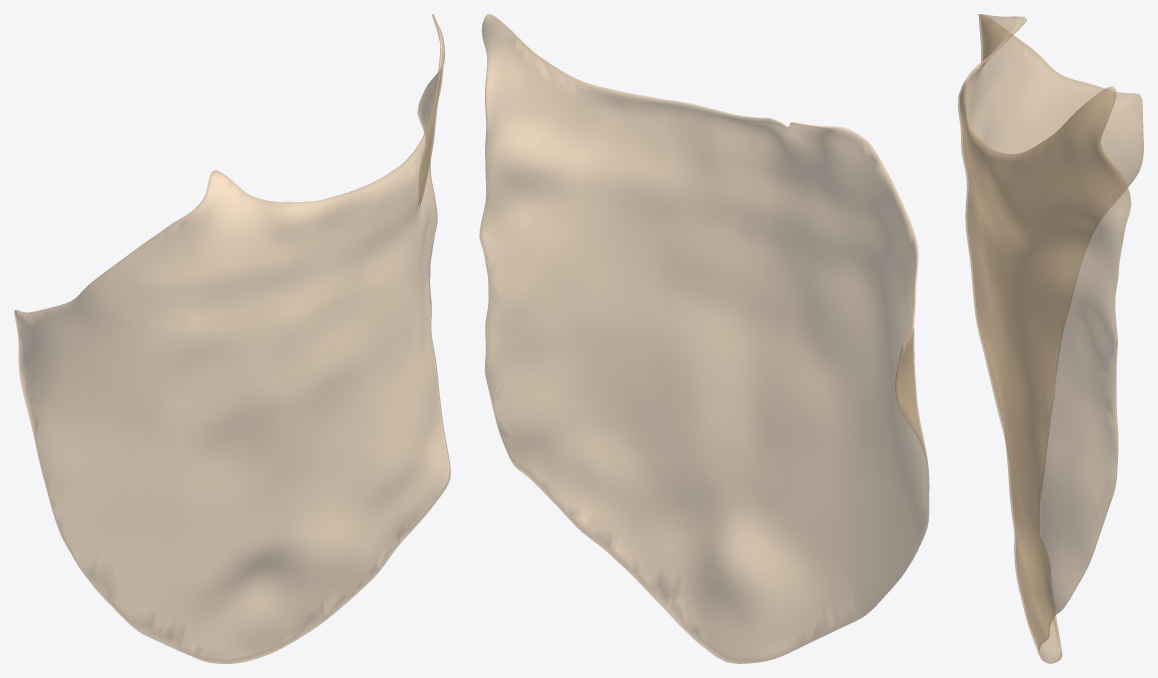
Rendered from visceras-greater-omentum.glb.
3 renders of one model, left to right at view 1: azimuth 30°, elevation 25°; view 2: azimuth 150°, elevation 25°; view 3: azimuth 270°, elevation 25°, orthographic. The views are drawn at different scales.
Parts seen in each view (by area): view 1: Greater omentum; view 2: Greater omentum; view 3: Greater omentum.
Part boxes in pixels (x1,y1,x2,y2): Greater omentum: (14, 14, 450, 663); Greater omentum: (479, 14, 929, 663); Greater omentum: (958, 14, 1143, 663).
Size of the model in its own units: 0.2118 by 0.2833 by 0.0693.
